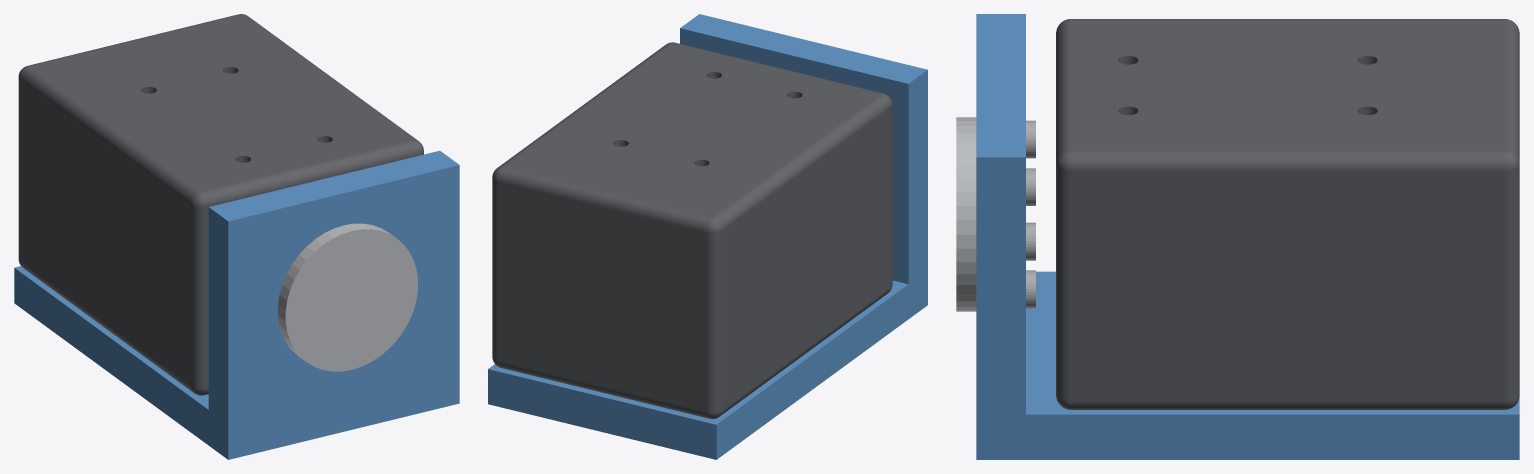
Rendered from hip_yaw.glb.
3 renders of one model, left to right at view 1: azimuth 30°, elevation 25°; view 2: azimuth 150°, elevation 25°; view 3: azimuth 270°, elevation 25°, orthographic. The views are drawn at different scales.
Visible parts, largest first — view 1: geometry_1, geometry_10, geometry_0; view 2: geometry_1, geometry_10; view 3: geometry_1, geometry_10, geometry_0.
Part boxes in pixels (box(x1,y1,x2,y2)): geometry_1: box(18, 14, 423, 395); geometry_10: box(14, 150, 459, 459); geometry_0: box(278, 223, 417, 371); geometry_1: box(492, 42, 892, 418); geometry_10: box(488, 14, 927, 459); geometry_1: box(1056, 19, 1519, 409); geometry_10: box(976, 14, 1519, 459); geometry_0: box(956, 117, 976, 311).
Size of the model in its own units: 0.034 by 0.036 by 0.0565.
